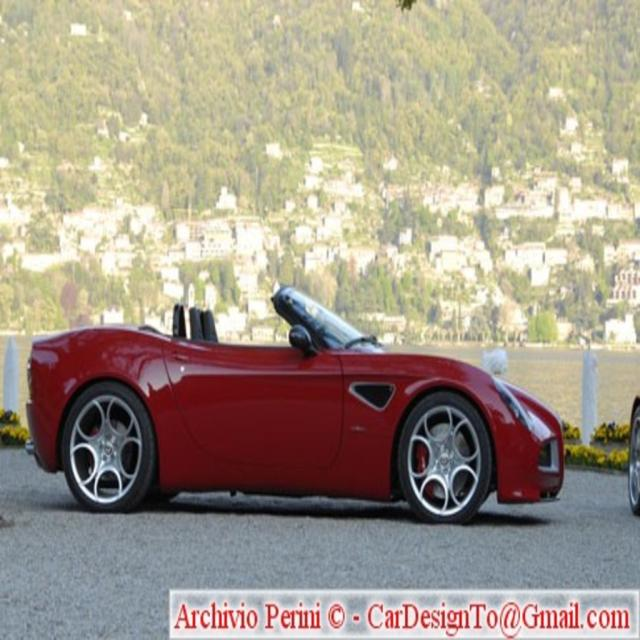car: (21, 294, 534, 528)
